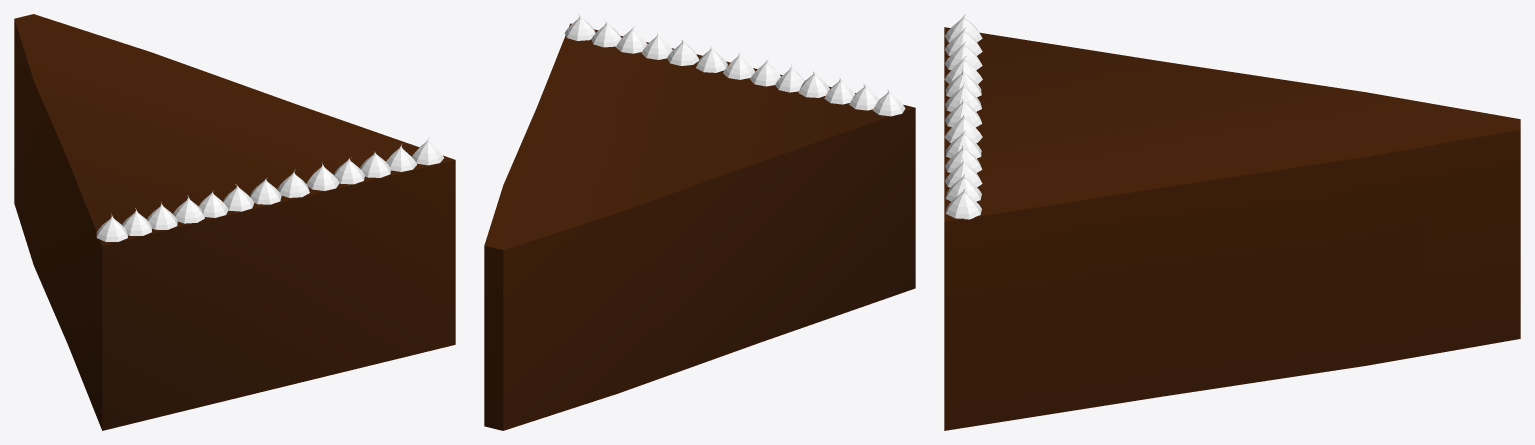
File: slice of cake hp.fbx
The picture shows the model from 3 angles, left to right: view 1: azimuth 30°, elevation 25°; view 2: azimuth 150°, elevation 25°; view 3: azimuth 270°, elevation 25°; orthographic projection. The views are drawn at different scales.
Parts seen in each view (by area): view 1: slice_of_cake_hp; view 2: slice_of_cake_hp; view 3: slice_of_cake_hp.
Boxes of the visible parts, x1=… form: slice_of_cake_hp: x1=14, y1=14, x2=455, y2=430; slice_of_cake_hp: x1=484, y1=14, x2=915, y2=430; slice_of_cake_hp: x1=944, y1=14, x2=1520, y2=430.
Bounding box in the file's own units: 4 × 2.22 × 5.
